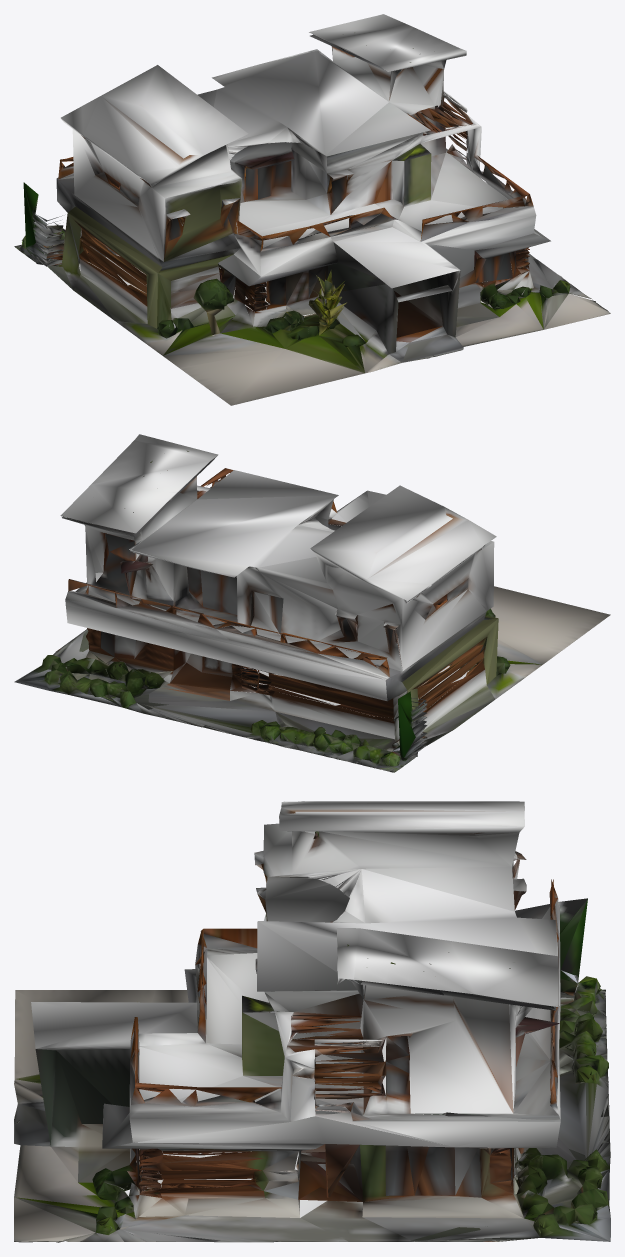
File: Worlda31e64ec45.glb
3 views of the same model, one above another, from view 1: azimuth 30°, elevation 25°; view 2: azimuth 150°, elevation 25°; view 3: azimuth 270°, elevation 25° (orthographic). The views are drawn at different scales.
Parts seen in each view (by area): view 1: Worlda31e64ec45; view 2: Worlda31e64ec45; view 3: Worlda31e64ec45.
Boxes of the visible parts, box(x1,y1,x2,y2) form: Worlda31e64ec45: box(14, 14, 610, 405); Worlda31e64ec45: box(14, 434, 610, 772); Worlda31e64ec45: box(14, 801, 610, 1242).
Bounding box in the file's own units: 7.02 × 3.26 × 7.
Materials: 1 (1 with a texture image).
